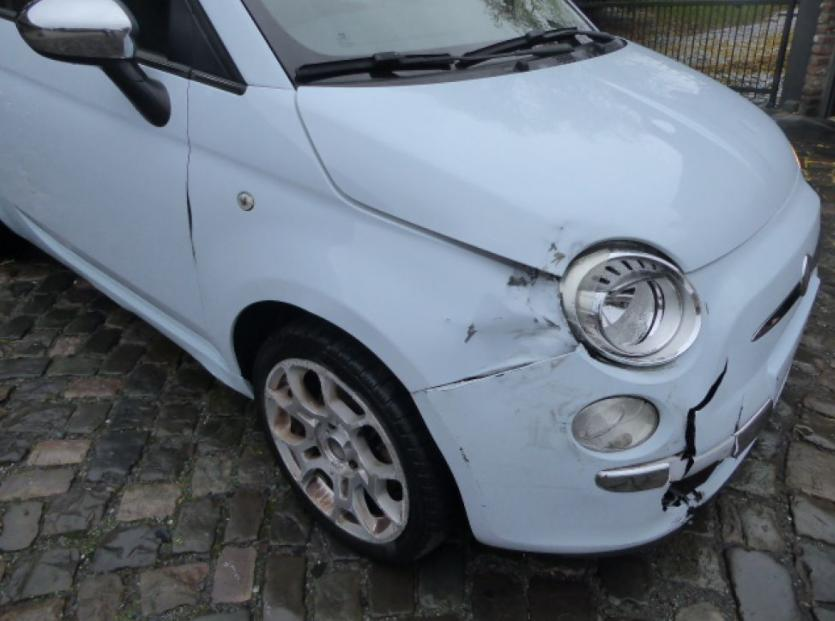Fender: (188, 78, 578, 394)
Front-bumper: (408, 180, 824, 559)
Front-door: (0, 0, 204, 330)
Front-wheel: (254, 332, 448, 567)
Front-window: (120, 2, 248, 91)
Headlight: (560, 244, 701, 368)
Hood: (293, 39, 808, 274)
License-plate: (739, 325, 806, 430)
Mirror: (17, 1, 168, 125)
Rocker-panel: (3, 203, 249, 397)
Windshield: (240, 0, 618, 91)
